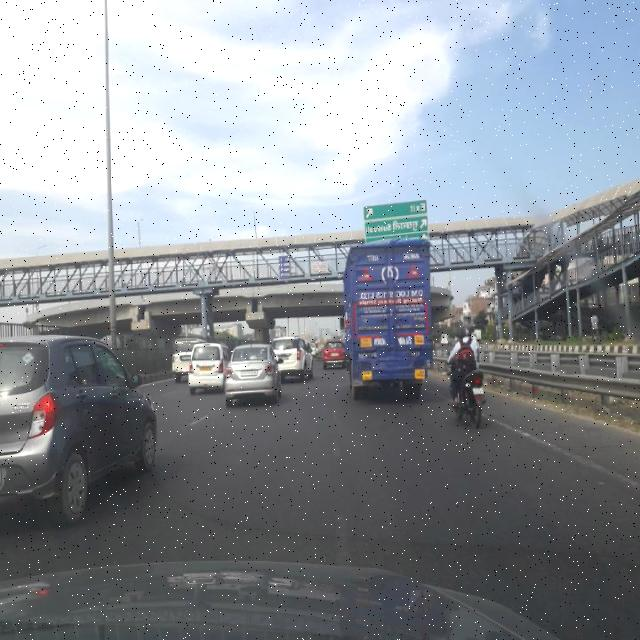D44: (322, 498, 359, 557)
